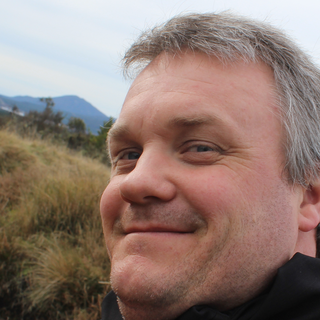eye: (167, 133, 225, 165), (111, 139, 146, 166)
